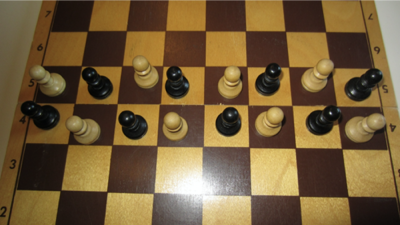black-pawn: (345, 69, 384, 102), (21, 101, 61, 131), (306, 105, 342, 136), (82, 68, 114, 100), (255, 63, 283, 97), (119, 110, 149, 141), (165, 66, 190, 100), (216, 107, 242, 138)
white-pawn: (345, 113, 387, 144), (29, 65, 67, 97), (301, 59, 335, 93), (65, 116, 102, 145), (132, 55, 160, 90), (256, 107, 285, 138), (218, 66, 244, 100), (163, 112, 189, 143)
